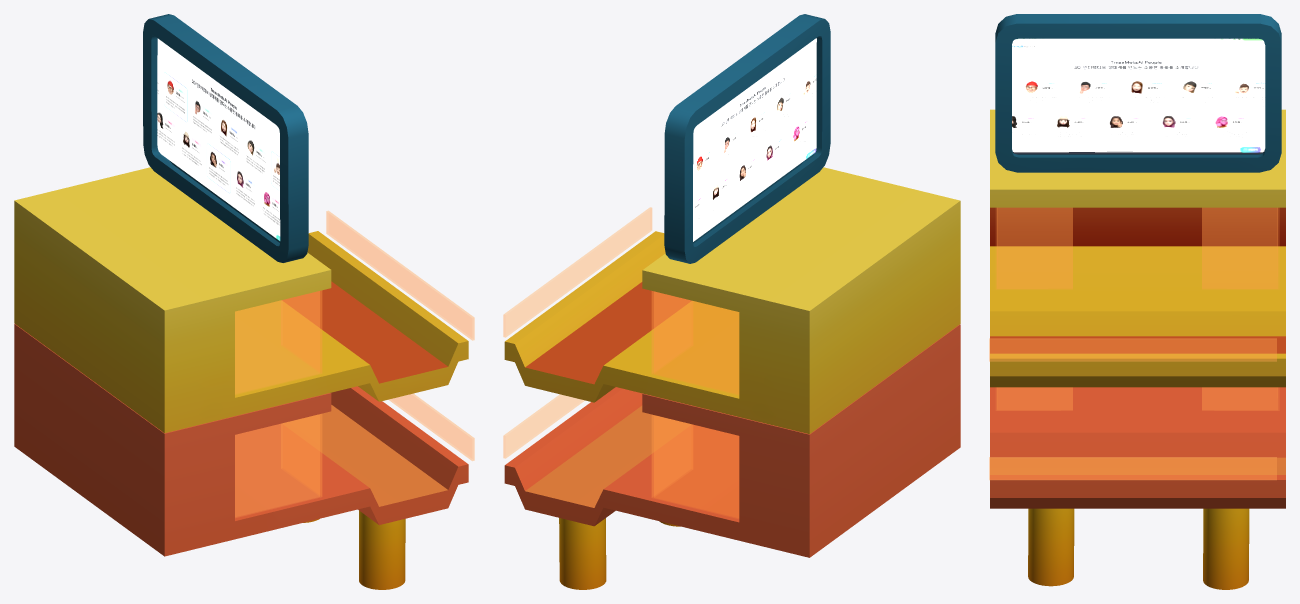
Rendered from Team.glb.
3 views of the same model, side by side, from view 1: azimuth 30°, elevation 25°; view 2: azimuth 150°, elevation 25°; view 3: azimuth 270°, elevation 25° (orthographic).
Visible parts, largest first — view 1: Cylinder.017, Team Display; view 2: Cylinder.017, Team Display; view 3: Cylinder.017, Team Display.
Part boxes in pixels (<box>): Cylinder.017: <box>14,167,474,589</box>; Team Display: <box>143,14,308,262</box>; Cylinder.017: <box>503,167,960,589</box>; Team Display: <box>664,14,830,263</box>; Cylinder.017: <box>989,109,1285,589</box>; Team Display: <box>995,14,1281,172</box>.
Bounding box in the file's own units: 1.52 × 2.39 × 1.28.
3 materials, 2 textured.
